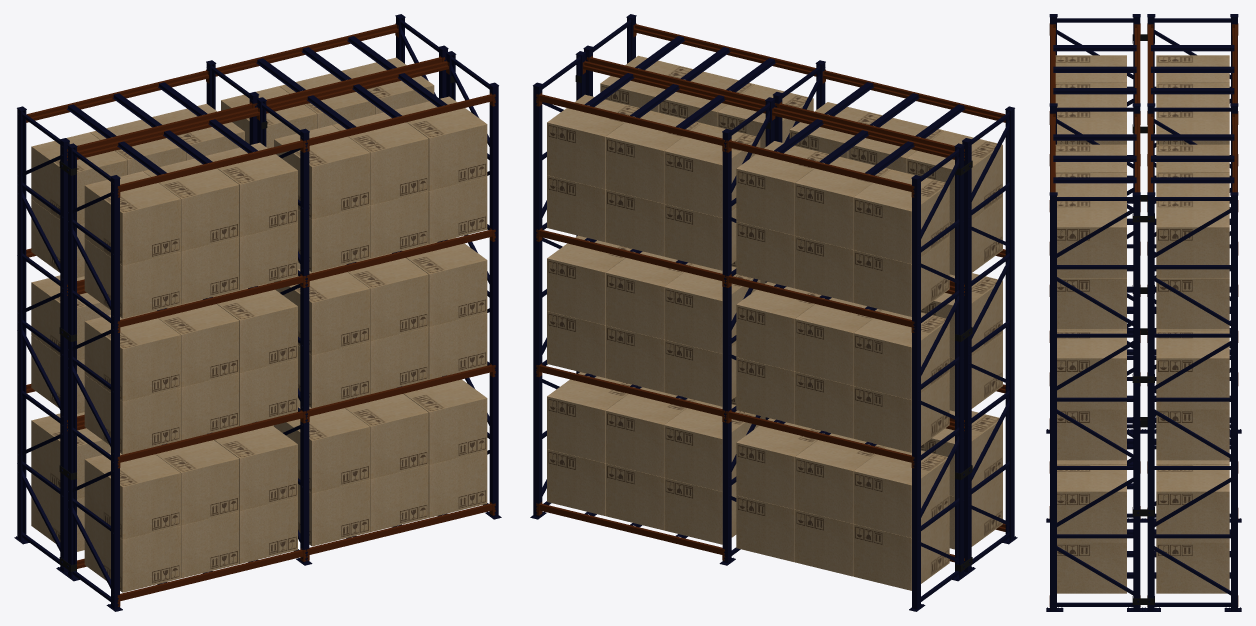
Rendered from cargo2.FBX.
The picture shows the model from 3 angles, left to right: view 1: azimuth 30°, elevation 25°; view 2: azimuth 150°, elevation 25°; view 3: azimuth 270°, elevation 25°; orthographic projection. The views are drawn at different scales.
Parts seen in each view (by area): view 1: Box30531, Group013, Box30608, Box30656, Box30632, Box30620, Box30668, Box30618, Box30644, Box30606, Box30607, Box30619 (+47 smaller); view 2: Box30531, Group013, Box30614, Box30662, Box30638, Box30626, Box30674, Box30625, Box30624, Box30612, Box30650, Box30613 (+46 smaller); view 3: Box30531, Group013, Box30648, Box30624, Box30672, Box30618, Box30642, Box30666, Box30621, Box30645, Box30669, Box30615 (+18 smaller).
Boxes of the visible parts, x1,y1,x2,y2 form: Box30531: (14,14,501,611); Group013: (17,19,489,605); Box30608: (84,171,180,265); Box30656: (84,453,180,539); Box30632: (84,312,180,401); Box30620: (274,125,370,219); Box30668: (274,407,370,493); Box30618: (395,96,487,190); Box30644: (274,266,370,355); Box30606: (205,142,297,237); Box30607: (143,158,239,251); Box30619: (332,112,428,205); Box30531: (530,14,1017,611); Group013: (542,19,1014,605); Box30614: (853,169,949,263); Box30662: (853,447,949,537); Box30638: (853,310,949,399); Box30626: (664,123,760,217); Box30674: (664,400,758,491); Box30625: (605,110,701,203); Box30624: (547,94,639,189); Box30612: (736,141,828,235); Box30650: (664,264,760,353); Box30613: (795,157,890,249); Box30531: (1046,14,1241,611); Group013: (1051,18,1236,607); Box30648: (1156,331,1229,409); Box30624: (1156,201,1229,277); Box30672: (1156,464,1229,542); Box30618: (1057,201,1126,277); Box30642: (1057,331,1126,409); Box30666: (1057,464,1126,542); Box30621: (1156,278,1229,329); Box30645: (1156,409,1229,460); Box30669: (1156,542,1229,593); Box30615: (1057,278,1126,329).
Size of the model in its own units: 529 by 564 by 240.
